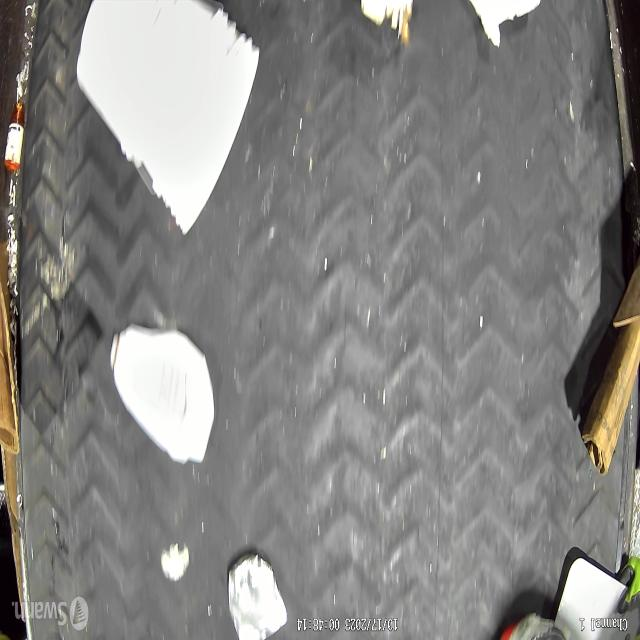can: (227, 550, 288, 639)
milk_jug: (108, 324, 213, 466)
